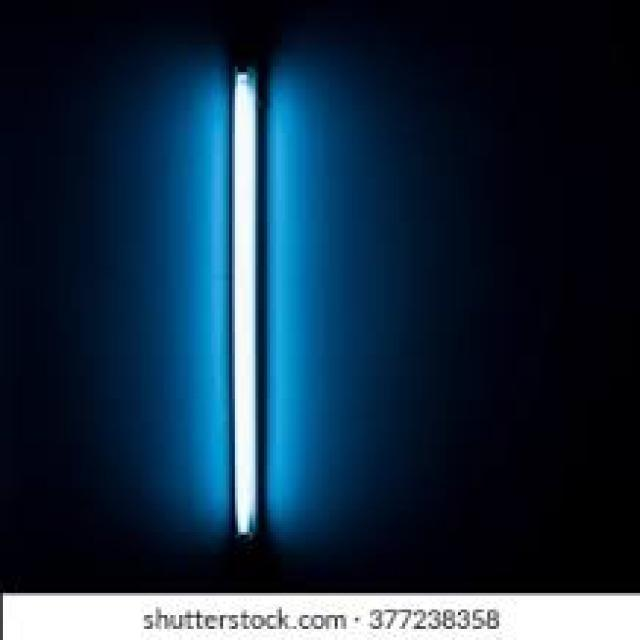tubelight_on: (223, 69, 275, 543)
